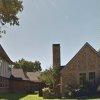Chimney: (40, 38, 78, 76)
